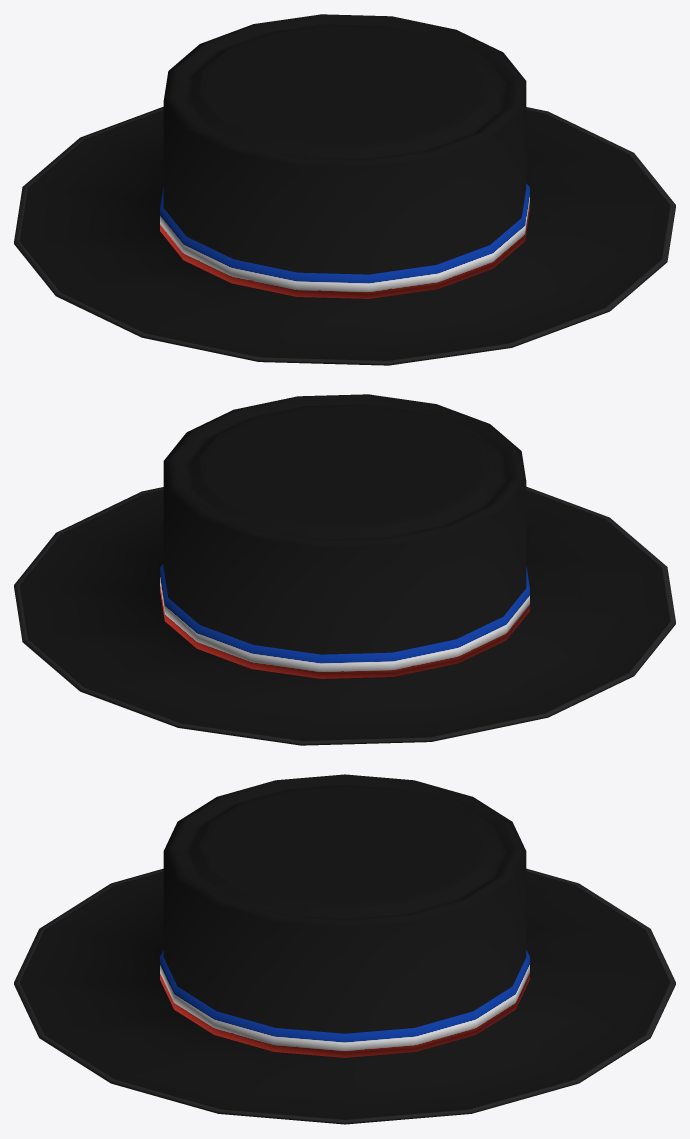
File: Sombrero Huaso.fbx
3 views of the same model, one above another, from view 1: azimuth 30°, elevation 25°; view 2: azimuth 150°, elevation 25°; view 3: azimuth 270°, elevation 25° (orthographic).
Visible parts, largest first — view 1: Circle; view 2: Circle; view 3: Circle.
Part boxes in pixels (<box>): Circle: <box>14,14,675,365</box>; Circle: <box>14,394,675,745</box>; Circle: <box>14,774,675,1124</box>.
Bounding box in the file's own units: 129 × 29.87 × 129.
